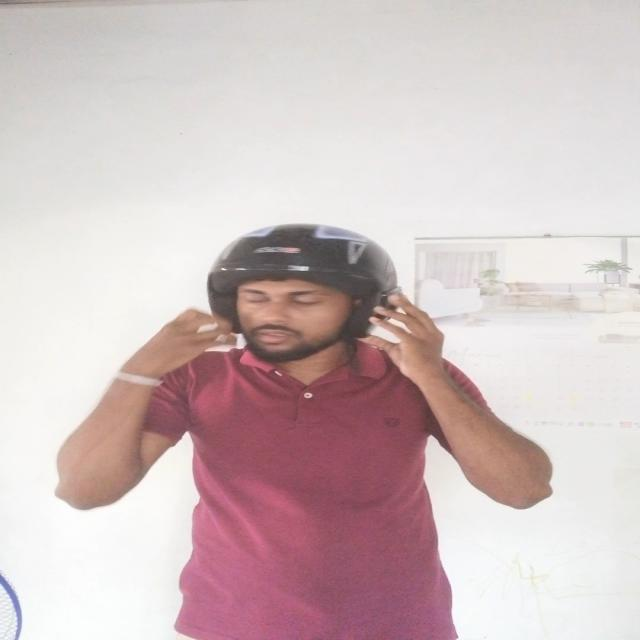Helmet_Wearer: (170, 205, 417, 387)
